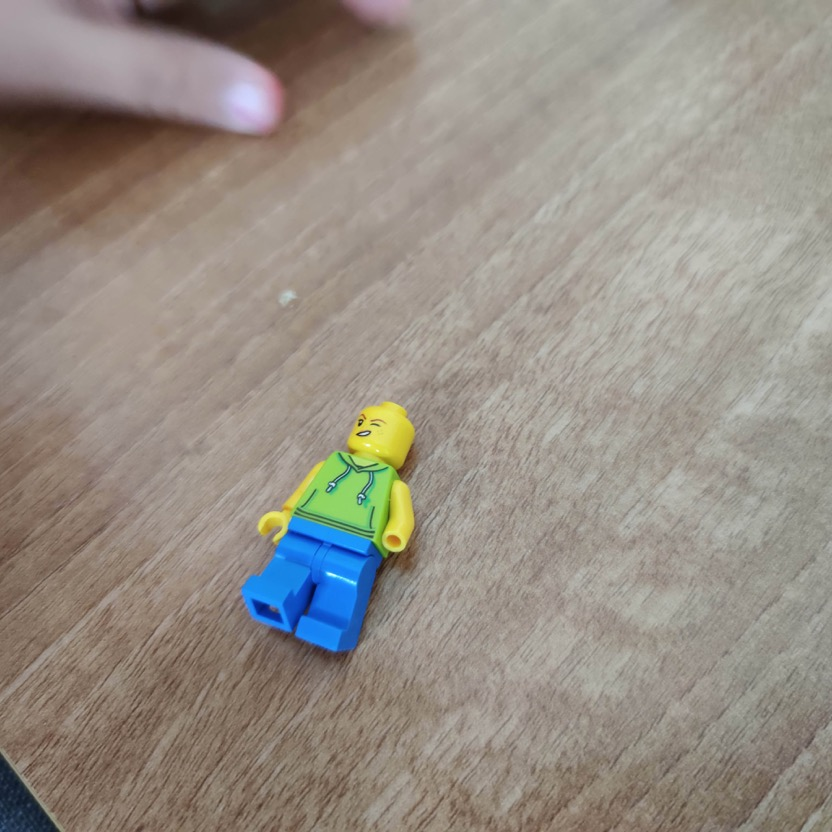lego: (241, 400, 418, 654)
